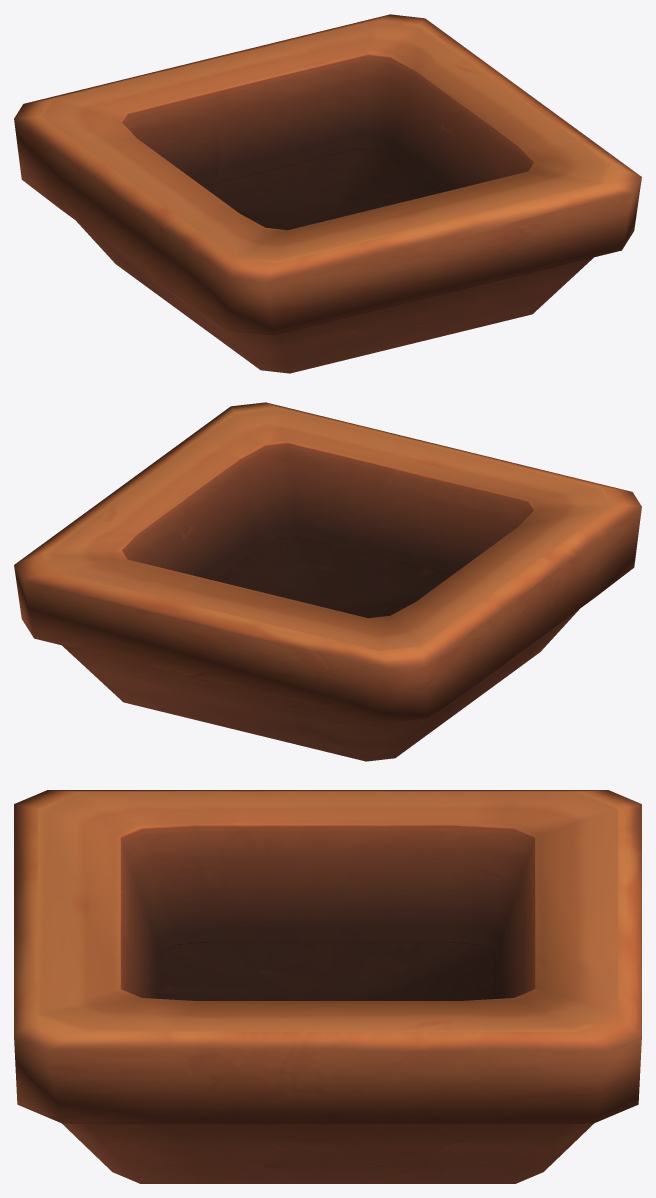
File: SE_Pot_03c.fbx
The picture shows the model from 3 angles, top to bottom: view 1: azimuth 30°, elevation 25°; view 2: azimuth 150°, elevation 25°; view 3: azimuth 270°, elevation 25°; orthographic projection. The views are drawn at different scales.
Visible parts, largest first — view 1: SE_Pot_03c; view 2: SE_Pot_03c; view 3: SE_Pot_03c.
Part boxes in pixels (x1=…): SE_Pot_03c: x1=14, y1=14, x2=641, y2=373; SE_Pot_03c: x1=14, y1=402, x2=641, y2=761; SE_Pot_03c: x1=14, y1=790, x2=641, y2=1183.
Size of the model in its own units: 1.49 by 0.506 by 1.52.
